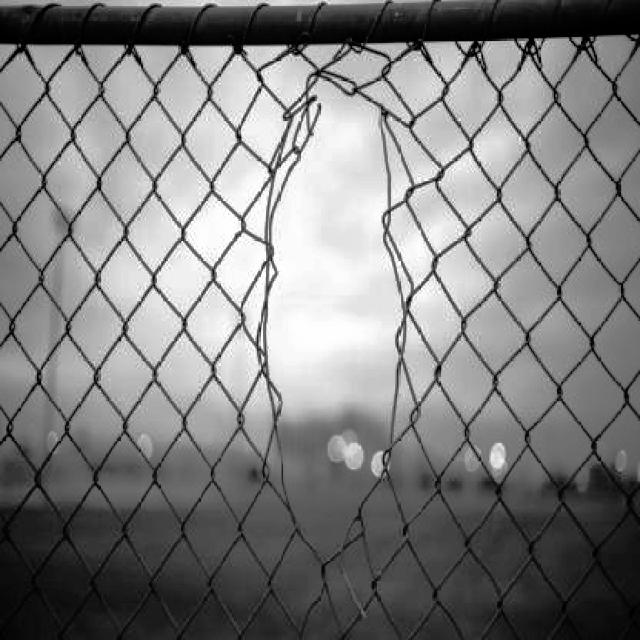anomaly-fence: (208, 57, 469, 577)
